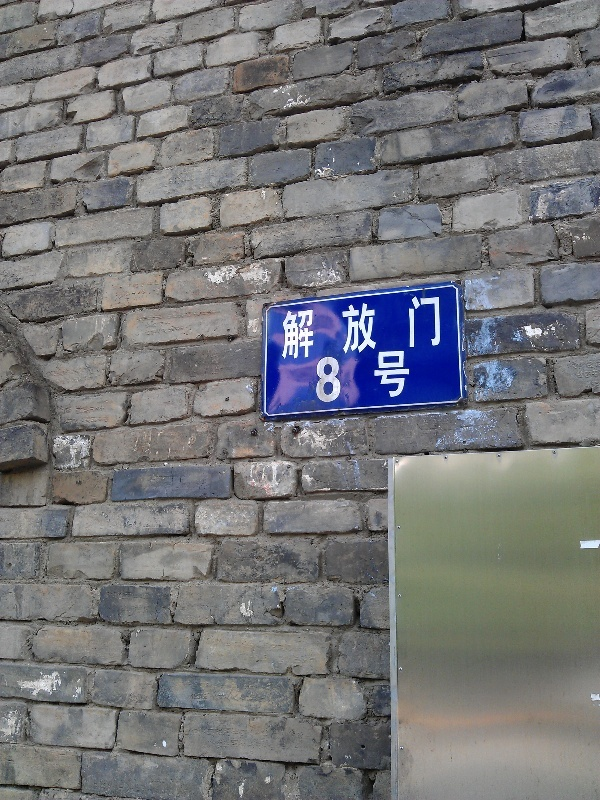text: (289, 292, 304, 361), (305, 292, 320, 361), (321, 292, 336, 361), (337, 292, 352, 361), (353, 292, 368, 361), (369, 292, 384, 361), (385, 292, 400, 361), (401, 292, 416, 361), (417, 292, 432, 361), (433, 292, 446, 361), (321, 348, 336, 407), (337, 348, 352, 407), (353, 348, 368, 407), (369, 348, 384, 407), (385, 348, 400, 407), (401, 348, 415, 407), (278, 292, 288, 361), (312, 348, 320, 407)
